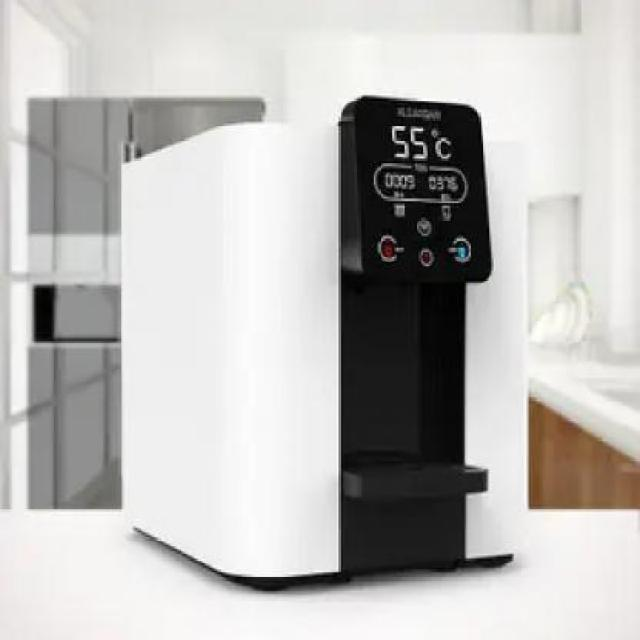cooler: (122, 91, 529, 585)
